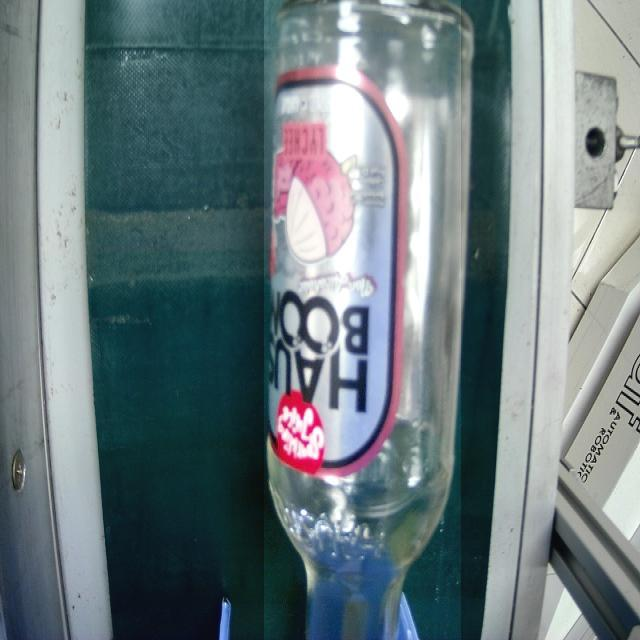Glass: (264, 0, 461, 640)
